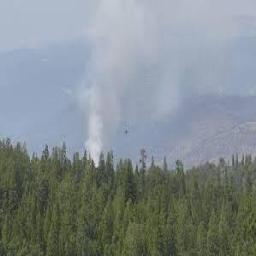Low smoke: (0, 0, 250, 173)
